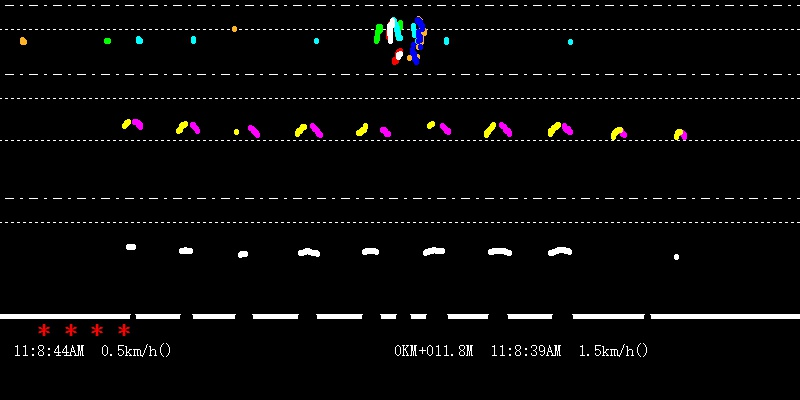J: (387, 1, 426, 67)
face_1: (372, 21, 384, 43)
star: (35, 320, 53, 339), (115, 323, 131, 339), (88, 322, 104, 338), (65, 322, 78, 338)
y_p: (225, 111, 580, 273)
